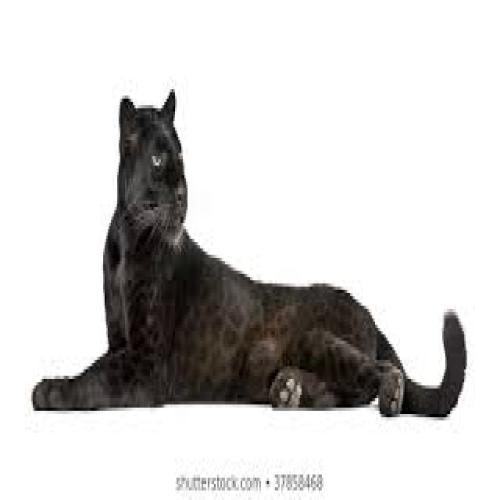panther-endangered: (30, 86, 466, 420)
